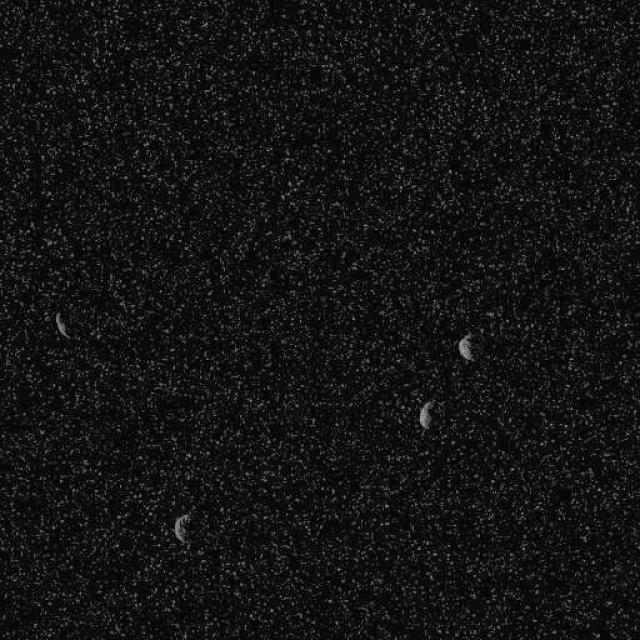D2: (172, 511, 192, 544), (418, 399, 437, 430), (456, 332, 475, 362), (54, 310, 71, 340)
